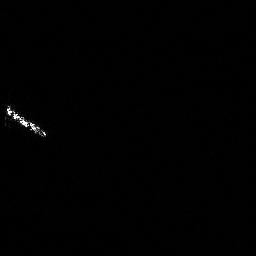ship: (2, 100, 50, 141)
